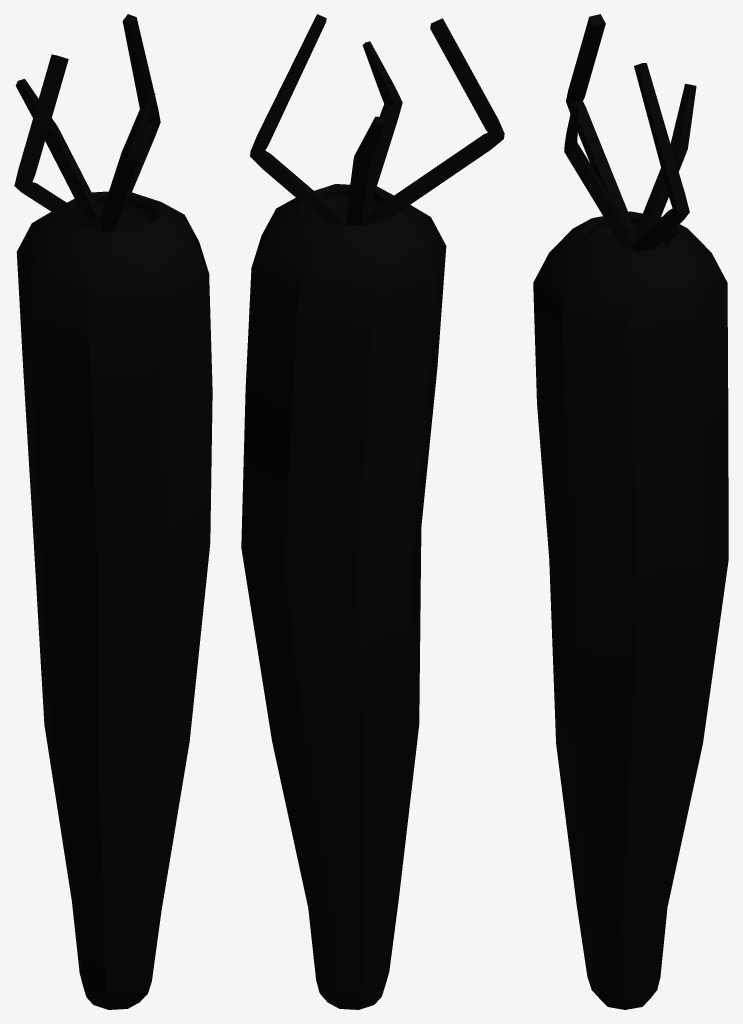
The model's file is Carrot_2.fbx.
3 renders of one model, left to right at view 1: azimuth 30°, elevation 25°; view 2: azimuth 150°, elevation 25°; view 3: azimuth 270°, elevation 25°, orthographic. The views are drawn at different scales.
Visible parts, largest first — view 1: Carrot_2; view 2: Carrot_2; view 3: Carrot_2.
Boxes of the visible parts, x1,y1,x2,y2 form: Carrot_2: (14,14,212,1009); Carrot_2: (241,14,504,1009); Carrot_2: (533,14,728,1009).
Bounding box in the file's own units: 2.71 × 11.58 × 2.15.
